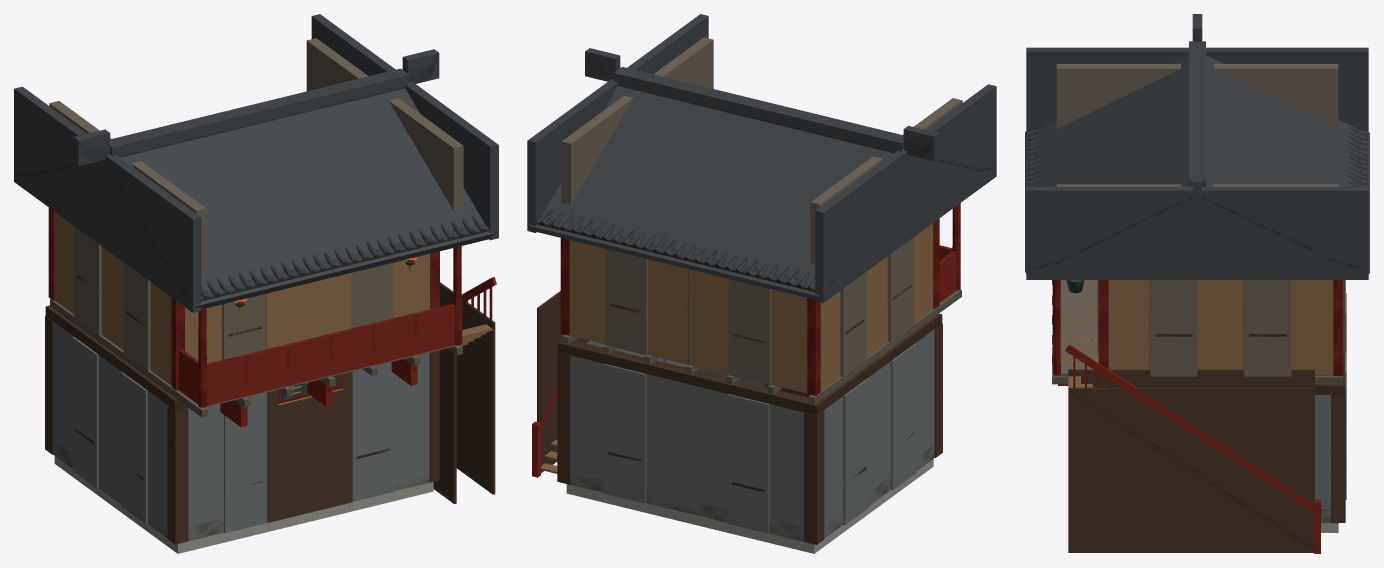
The model's file is kit_two_storey.gltf.
3 views of the same model, side by side, from view 1: azimuth 30°, elevation 25°; view 2: azimuth 150°, elevation 25°; view 3: azimuth 270°, elevation 25° (orthographic). The views are drawn at different scales.
Parts seen in each view (by area): view 1: Far, Near, Detail; view 2: Far, Near; view 3: Far, Near.
Boxes of the visible parts, <box> form: Far: <box>14,14,498,553</box>; Near: <box>14,56,495,544</box>; Detail: <box>235,257,417,405</box>; Far: <box>527,14,996,553</box>; Near: <box>532,55,995,544</box>; Far: <box>1025,14,1369,553</box>; Near: <box>1027,38,1367,552</box>.
Size of the model in its own units: 8.49 by 8.81 by 7.34.
Materials: 24 (23 with a texture image).
